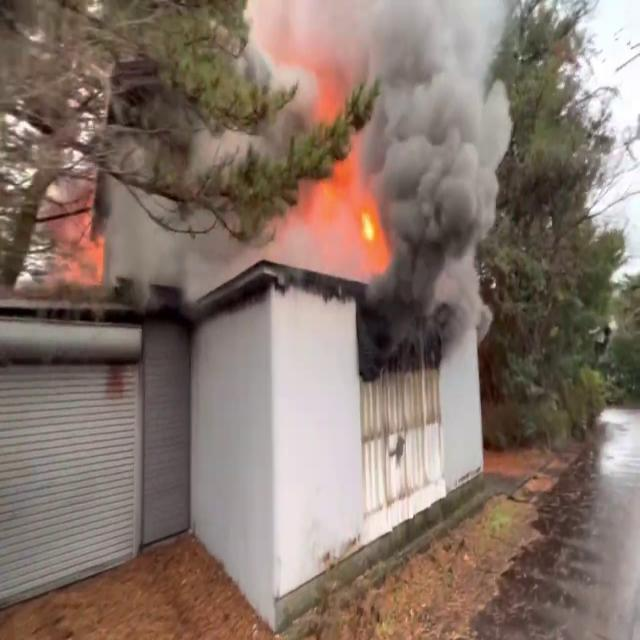Fire: (264, 152, 388, 276)
Smoke: (340, 1, 524, 362)
